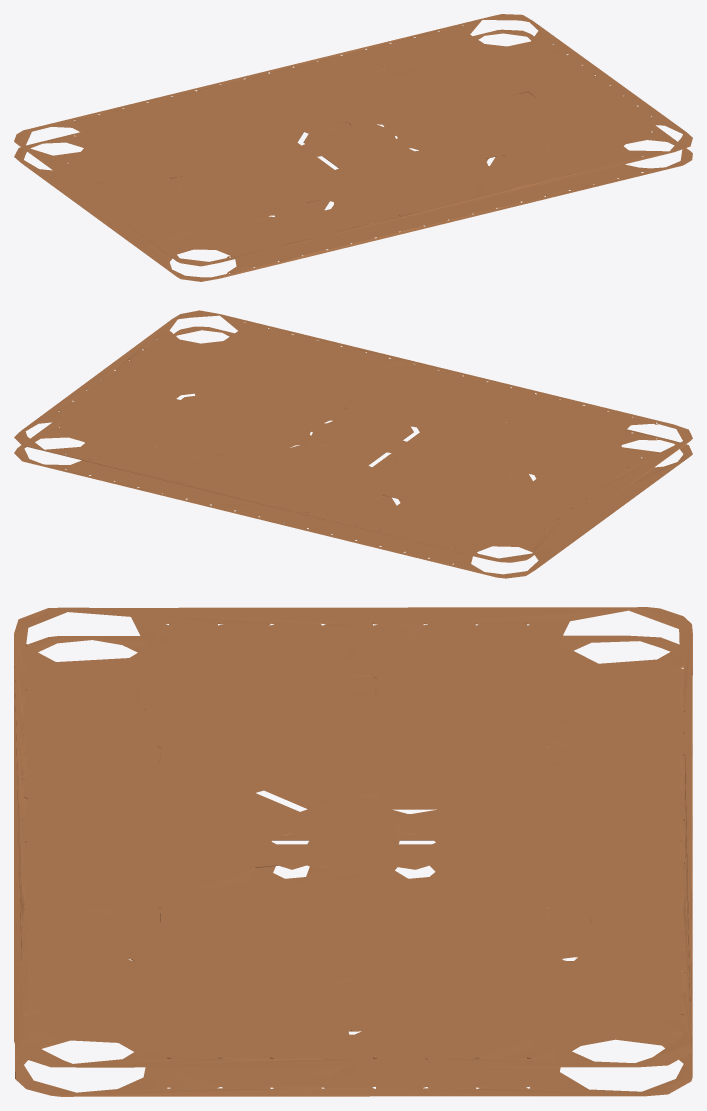
Rendered from left_hip_yaw_link_mat_11.obj.
The picture shows the model from 3 angles, top to bottom: view 1: azimuth 30°, elevation 25°; view 2: azimuth 150°, elevation 25°; view 3: azimuth 270°, elevation 25°; orthographic projection. The views are drawn at different scales.
Bounding box in the file's own units: 0.053 × 0.00158 × 0.033.
